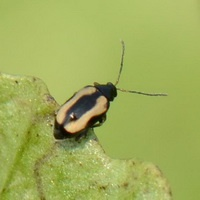insect: (54, 40, 166, 138)
